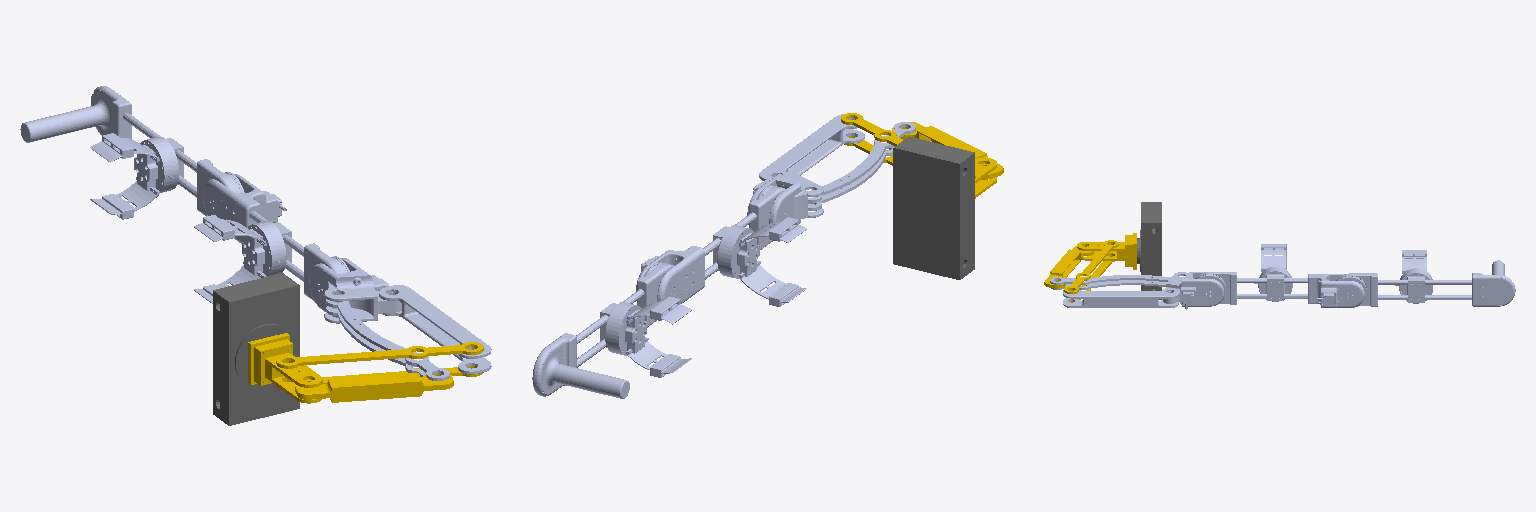
robot.urdf — ntuh3_with_sabdpart.SLDASM:
<?xml version="1.0" encoding="utf-8"?>
<!-- This URDF was automatically created by SolidWorks to URDF Exporter! Originally created by [author] ([email redacted]) 
     Commit Version: 1.5.1-0-g916b5db  Build Version: 1.5.7152.31018
     For more information, please see http://wiki.ros.org/sw_urdf_exporter -->
<robot
  name="ntuh3_with_sabdpart.SLDASM">
  <link
    name="back">
    <inertial>
      <origin
        xyz="-7.6509E-18 0.022801 -3.2321E-05"
        rpy="0 0 0" />
      <mass
        value="1.7" />
      <inertia
        ixx="0.0037002"
        ixy="4.8637E-20"
        ixz="2.284E-20"
        iyy="0.0047373"
        iyz="3.3421E-07"
        izz="0.001517" />
    </inertial>
    <visual>
      <origin
        xyz="0 0 0"
        rpy="0 0 0" />
      <geometry>
        <mesh
          filename="package://ntuh3_with_sabdpart.SLDASM/meshes/back.STL" />
      </geometry>
      <material
        name="">
        <color
          rgba="0.48627 0.48627 0.48627 1" />
      </material>
    </visual>
    <collision>
      <origin
        xyz="0 0 0"
        rpy="0 0 0" />
      <geometry>
        <mesh
          filename="package://ntuh3_with_sabdpart.SLDASM/meshes/back.STL" />
      </geometry>
    </collision>
  </link>
  <link
    name="linkage1">
    <inertial>
      <origin
        xyz="0.048055 -0.082283 -6.9819E-07"
        rpy="0 0 0" />
      <mass
        value="0.27121" />
      <inertia
        ixx="0.00019867"
        ixy="0.00024273"
        ixz="-2.3107E-10"
        iyy="0.00075246"
        iyz="-7.3137E-11"
        izz="0.0008772" />
    </inertial>
    <visual>
      <origin
        xyz="0 0 0"
        rpy="0 0 0" />
      <geometry>
        <mesh
          filename="package://ntuh3_with_sabdpart.SLDASM/meshes/linkage1.STL" />
      </geometry>
      <material
        name="">
        <color
          rgba="0.96863 0.8 0 1" />
      </material>
    </visual>
    <collision>
      <origin
        xyz="0 0 0"
        rpy="0 0 0" />
      <geometry>
        <mesh
          filename="package://ntuh3_with_sabdpart.SLDASM/meshes/linkage1.STL" />
      </geometry>
    </collision>
  </link>
  <joint
    name="sabd_joint"
    type="revolute">
    <origin
      xyz="0 -0.0085 0"
      rpy="0 0 0" />
    <parent
      link="back" />
    <child
      link="linkage1" />
    <axis
      xyz="0 -1 0" />
    <limit
      lower="-1.57"
      upper="1.57"
      effort="100"
      velocity="30" />
  </joint>
  <link
    name="linkage2">
    <inertial>
      <origin
        xyz="0.046208 0.1869 -0.017481"
        rpy="0 0 0" />
      <mass
        value="0.42051" />
      <inertia
        ixx="0.0015396"
        ixy="6.2859E-05"
        ixz="5.9213E-08"
        iyy="0.00021615"
        iyz="6.4123E-09"
        izz="0.0015915" />
    </inertial>
    <visual>
      <origin
        xyz="0 0 0"
        rpy="0 0 0" />
      <geometry>
        <mesh
          filename="package://ntuh3_with_sabdpart.SLDASM/meshes/linkage2.STL" />
      </geometry>
      <material
        name="">
        <color
          rgba="0.79216 0.81961 0.93333 1" />
      </material>
    </visual>
    <collision>
      <origin
        xyz="0 0 0"
        rpy="0 0 0" />
      <geometry>
        <mesh
          filename="package://ntuh3_with_sabdpart.SLDASM/meshes/linkage2.STL" />
      </geometry>
    </collision>
  </link>
  <joint
    name="shabd_joint"
    type="fixed">
    <origin
      xyz="0.17854 -0.12598 0.0175"
      rpy="0 0 0" />
    <parent
      link="linkage1" />
    <child
      link="linkage2" />
    <axis
      xyz="0 0 0" />
  </joint>
  <link
    name="upper_arm">
    <inertial>
      <origin
        xyz="-0.0070986 -4.541E-07 0.1763"
        rpy="0 0 0" />
      <mass
        value="0.62024" />
      <inertia
        ixx="0.00069849"
        ixy="3.2506E-08"
        ixz="-1.6708E-05"
        iyy="0.00060113"
        iyz="4.1629E-09"
        izz="0.00033923" />
    </inertial>
    <visual>
      <origin
        xyz="0 0 0"
        rpy="0 0 0" />
      <geometry>
        <mesh
          filename="package://ntuh3_with_sabdpart.SLDASM/meshes/upper_arm.STL" />
      </geometry>
      <material
        name="">
        <color
          rgba="0.79216 0.81961 0.93333 1" />
      </material>
    </visual>
    <collision>
      <origin
        xyz="0 0 0"
        rpy="0 0 0" />
      <geometry>
        <mesh
          filename="package://ntuh3_with_sabdpart.SLDASM/meshes/upper_arm.STL" />
      </geometry>
    </collision>
  </link>
  <joint
    name="sfe_joint"
    type="revolute">
    <origin
      xyz="0.028794 0.29481 -0.01745"
      rpy="-1.5708 0 0" />
    <parent
      link="linkage2" />
    <child
      link="upper_arm" />
    <axis
      xyz="-1 0 0" />
    <limit
      lower="-1.57"
      upper="1.57"
      effort="100"
      velocity="30" />
  </joint>
  <link
    name="lower_arm">
    <inertial>
      <origin
        xyz="-0.02423 2.3774E-07 0.18786"
        rpy="0 0 0" />
      <mass
        value="0.59" />
      <inertia
        ixx="0.00059032"
        ixy="3.3783E-08"
        ixz="6.7084E-05"
        iyy="0.00081708"
        iyz="5.5099E-10"
        izz="0.00062762" />
    </inertial>
    <visual>
      <origin
        xyz="0 0 0"
        rpy="0 0 0" />
      <geometry>
        <mesh
          filename="package://ntuh3_with_sabdpart.SLDASM/meshes/lower_arm.STL" />
      </geometry>
      <material
        name="">
        <color
          rgba="0.79216 0.81961 0.93333 1" />
      </material>
    </visual>
    <collision>
      <origin
        xyz="0 0 0"
        rpy="0 0 0" />
      <geometry>
        <mesh
          filename="package://ntuh3_with_sabdpart.SLDASM/meshes/lower_arm.STL" />
      </geometry>
    </collision>
  </link>
  <joint
    name="efe_joint"
    type="revolute">
    <origin
      xyz="0.01 0 0.3285"
      rpy="0 0 0" />
    <parent
      link="upper_arm" />
    <child
      link="lower_arm" />
    <axis
      xyz="-1 0 0" />
    <limit
      lower="-1.57"
      upper="1.57"
      effort="100"
      velocity="30" />
  </joint>
</robot>

--- Render facts (derived) ---
3 views of the same robot in one strip: view 1: azimuth 30°, elevation 25°; view 2: azimuth 150°, elevation 25°; view 3: azimuth 270°, elevation 25° (orthographic).
Model ntuh3_with_sabdpart.SLDASM with 5 links and 4 joints (3 revolute, 1 fixed), rooted at back, posed all joints at 0.
Visible links, largest first — view 1: back, lower_arm, linkage2, linkage1, upper_arm; view 2: back, lower_arm, upper_arm, linkage2, linkage1; view 3: linkage2, upper_arm, lower_arm, linkage1, back.
Link boxes in pixels (x1,y1,x2,y2): back: (213,273,299,425); lower_arm: (20,86,244,219); linkage2: (309,258,491,380); linkage1: (248,333,483,403); upper_arm: (194,174,349,303); back: (893,136,974,279); lower_arm: (532,262,691,398); upper_arm: (636,185,806,306); linkage2: (747,114,915,227); linkage1: (841,113,1003,198); linkage2: (1050,272,1223,309); upper_arm: (1195,244,1364,307); lower_arm: (1336,250,1515,306); linkage1: (1044,233,1136,302); back: (1137,202,1161,299).
Bounding box of the posed robot: 0.3427 × 1.1 × 0.198 m (x, y, z).
Meshes: 5 distinct files referenced, 5 mesh visuals loaded (5 binary STL).